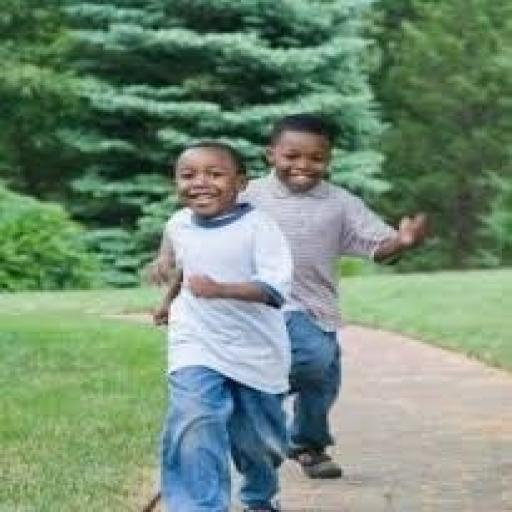running: (146, 139, 298, 510)
